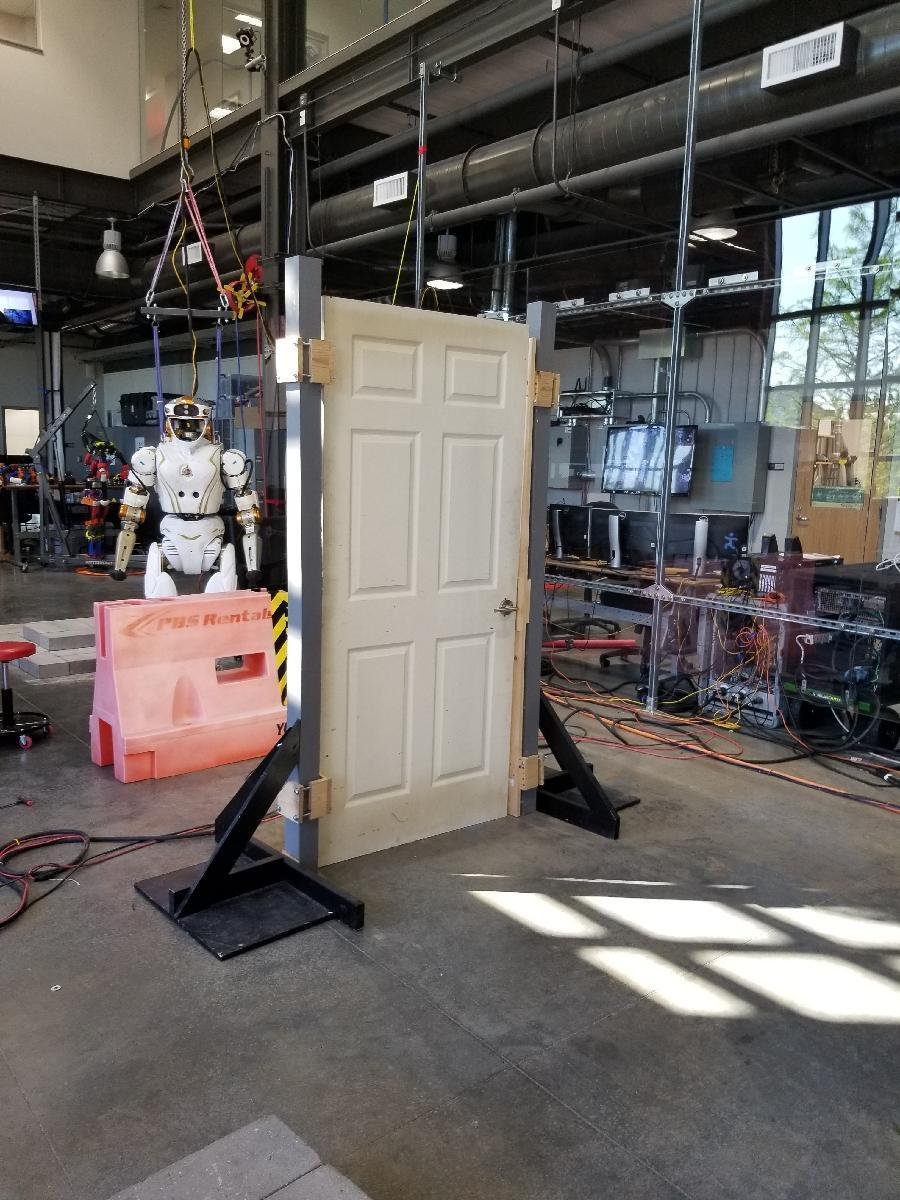door: (326, 288, 513, 851)
handle: (493, 595, 519, 617)
